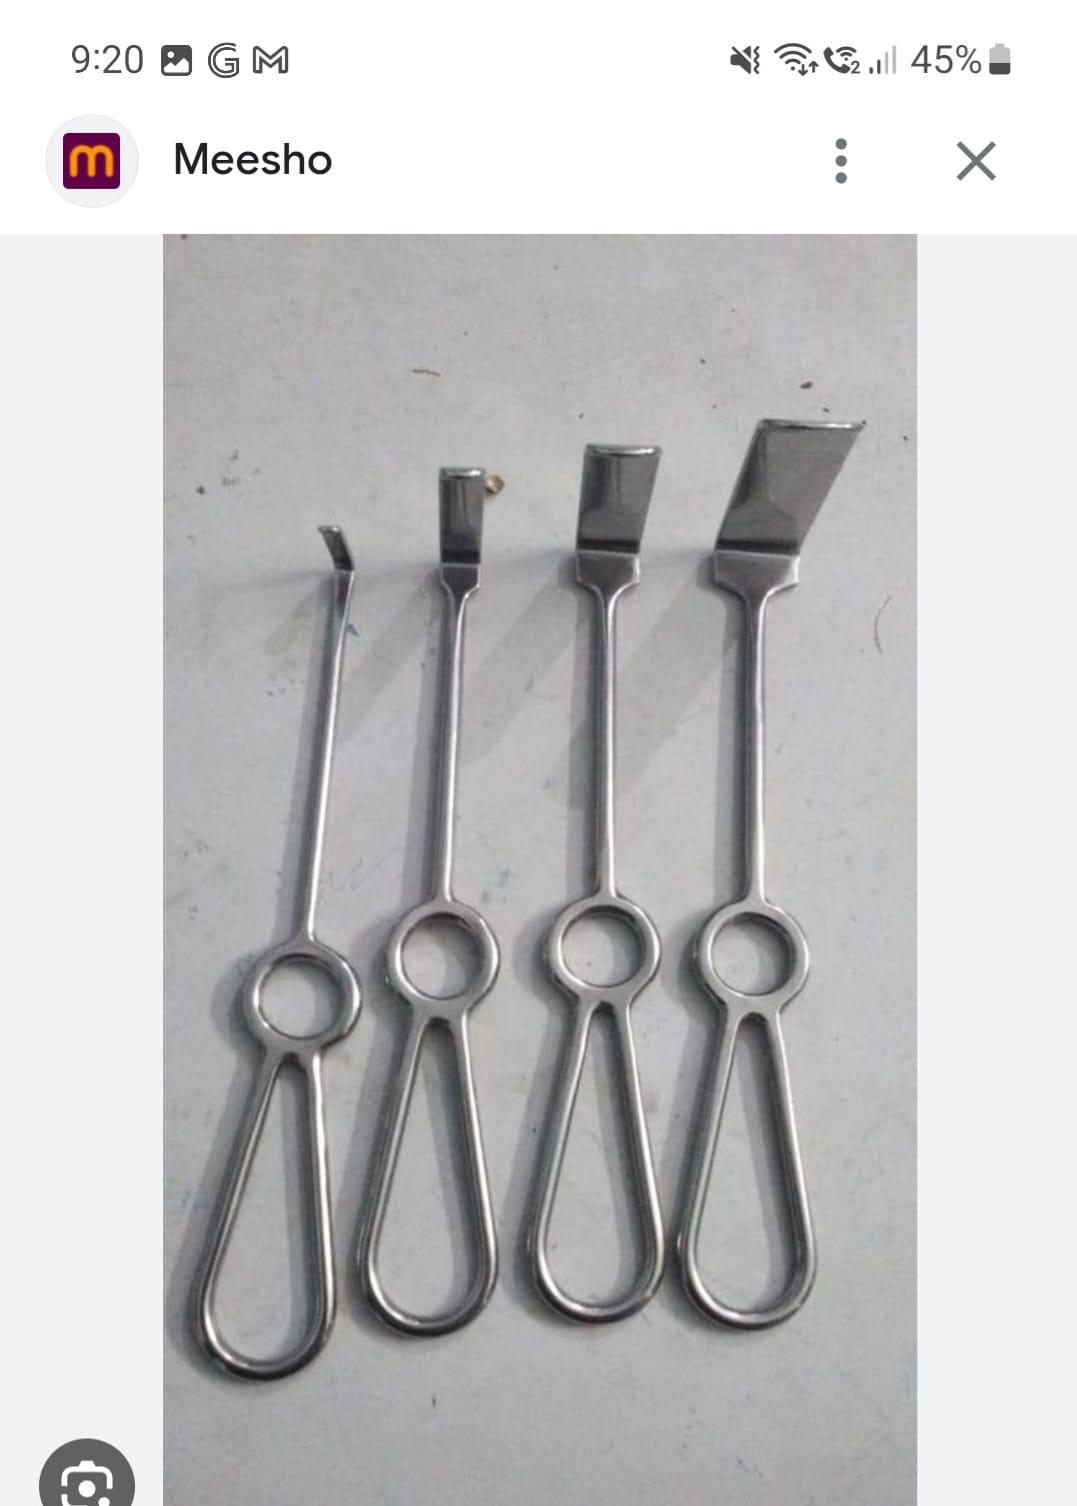Langenbach Retractor: (677, 413, 878, 1343), (522, 428, 673, 1330), (362, 457, 513, 1354)
